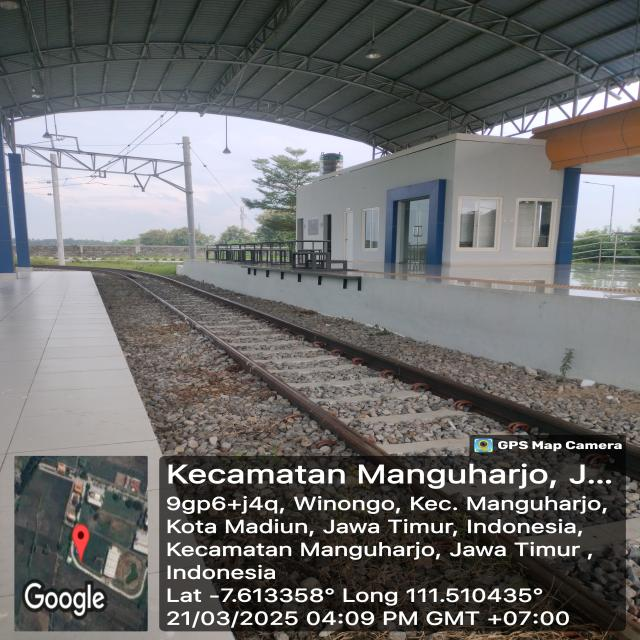rail-detection: (139, 272, 640, 480), (101, 270, 388, 455), (185, 318, 389, 456), (80, 268, 159, 298)
